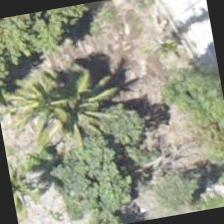Kelapa_Sawit: (28, 56, 132, 160), (0, 58, 97, 163), (3, 133, 75, 223)
